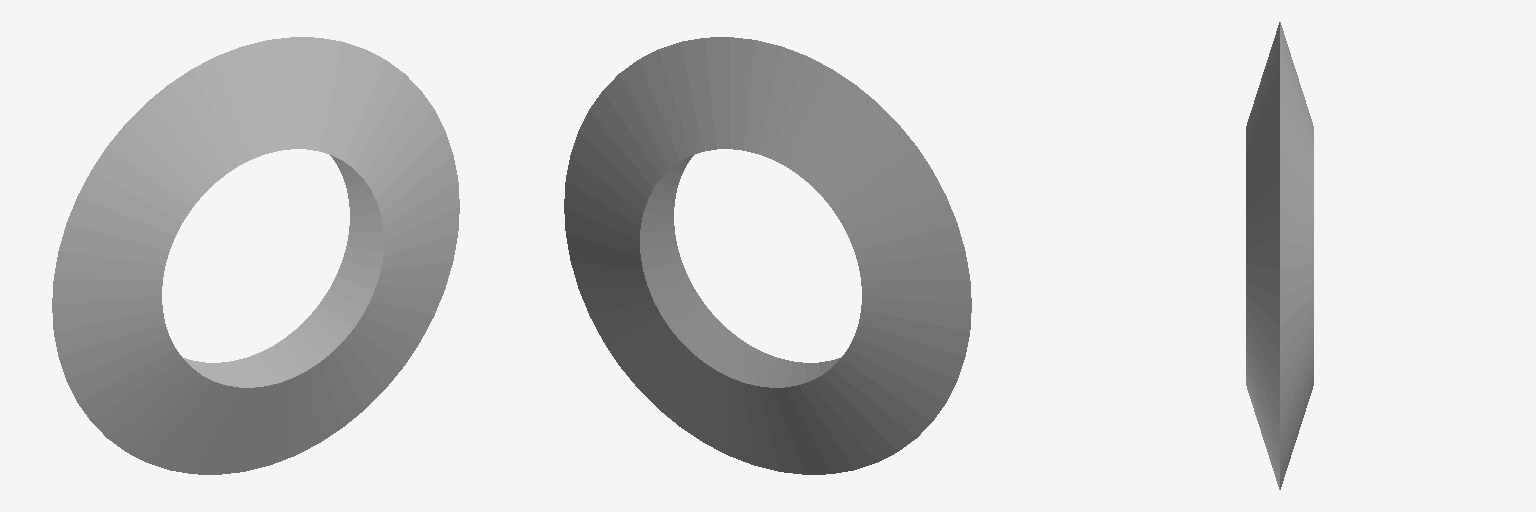
Rendered from CylinderBlade.obj.
The picture shows the model from 3 angles: view 1: azimuth 30°, elevation 25°; view 2: azimuth 150°, elevation 25°; view 3: azimuth 270°, elevation 25°; orthographic projection.
Parts seen in each view (by area): view 1: pCylinder1; view 2: pCylinder1; view 3: pCylinder1.
Part boxes in pixels (bbox=[...]): pCylinder1: bbox=[52, 37, 459, 474]; pCylinder1: bbox=[564, 37, 971, 474]; pCylinder1: bbox=[1246, 22, 1313, 489].
Size of the model in its own units: 2 by 2 by 0.2903.